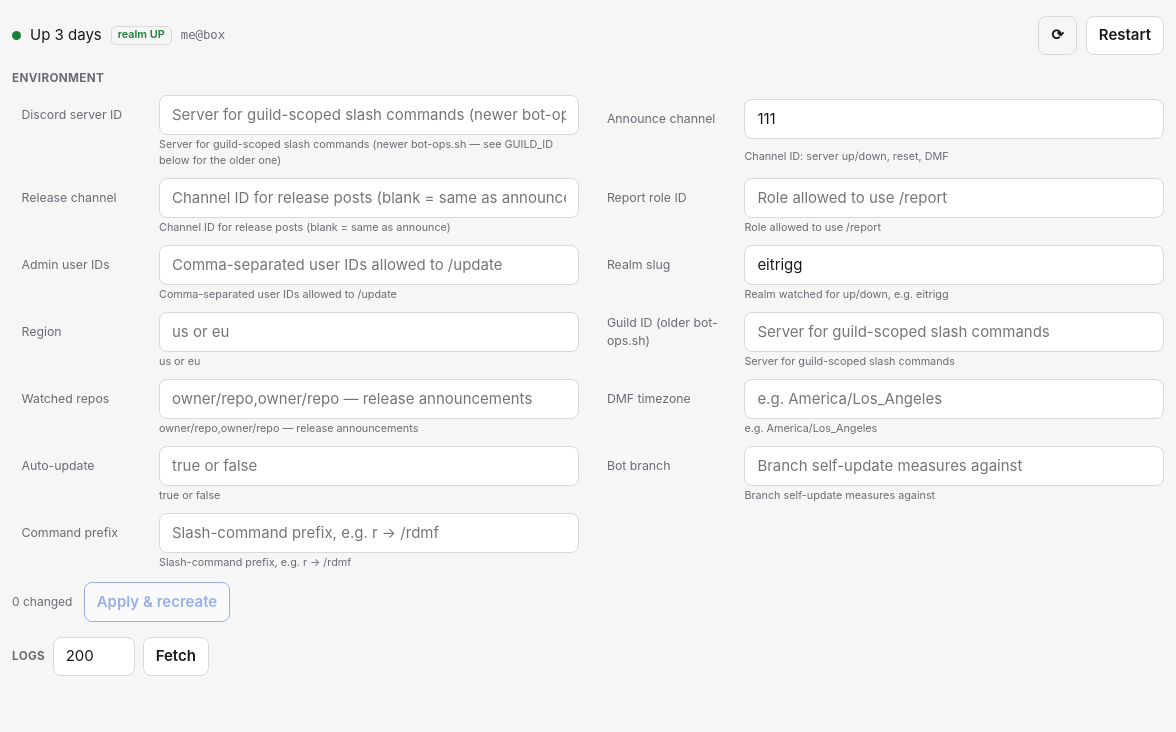
Test: BotOps › fetches logs on demand
Expected: the text "Up 3 days" is shown, [30, 24, 102, 47]
Click the button "Fetch".
click(176, 657)  # box [143, 637, 209, 676]
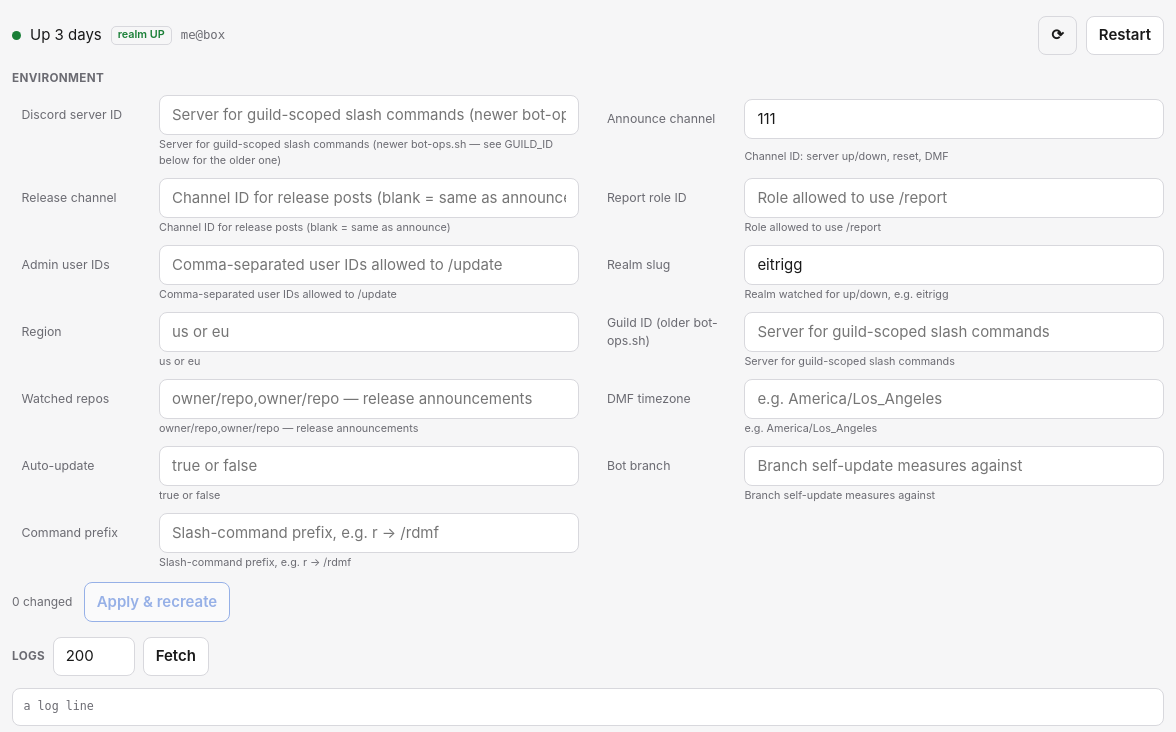
Expected: the text "a log line" is shown, [12, 688, 1164, 726]
